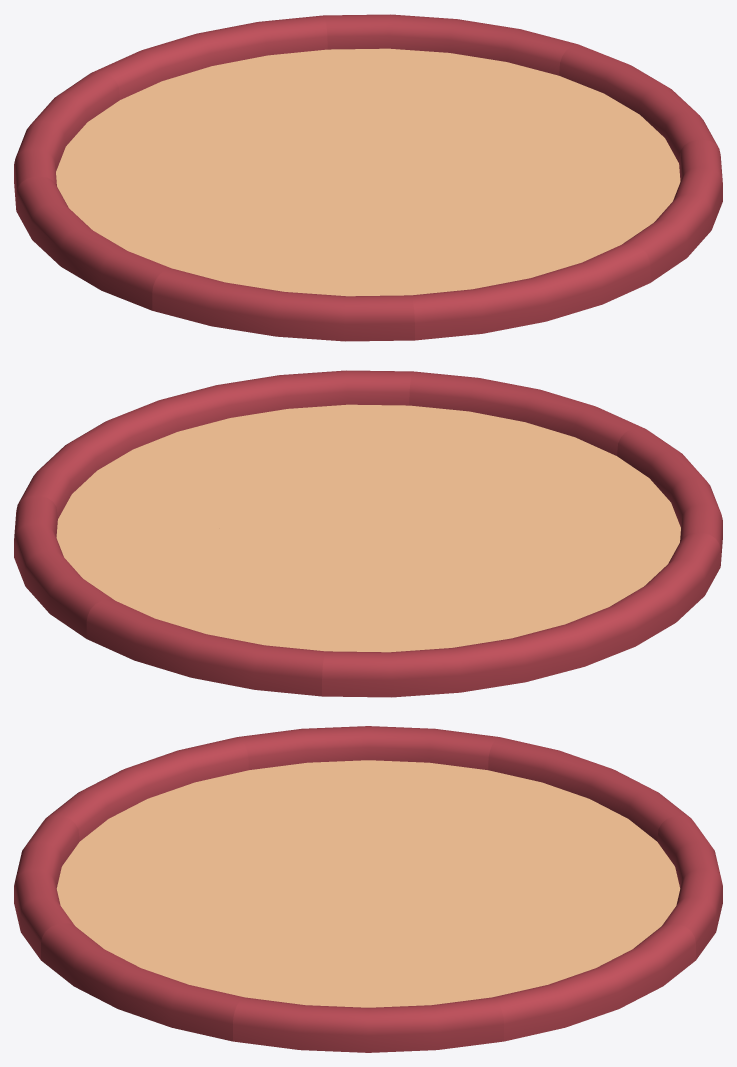
File: Dough Classic D.fbx
The picture shows the model from 3 angles, top to bottom: view 1: azimuth 30°, elevation 25°; view 2: azimuth 150°, elevation 25°; view 3: azimuth 270°, elevation 25°; orthographic projection.
Visible parts, largest first — view 1: Dough.127, Dough.123, Dough.126, Dough.122, Dough.128, Dough.124, Dough.125, Dough.129; view 2: Dough.129, Dough.125, Dough.122, Dough.126, Dough.128, Dough.124, Dough.123, Dough.127; view 3: Dough.128, Dough.124, Dough.123, Dough.125, Dough.127, Dough.129, Dough.122, Dough.126.
Part boxes in pixels (box(x1,y1,x2,y2)): Dough.127: box(152, 181, 414, 341); Dough.123: box(323, 14, 577, 180); Dough.126: box(368, 181, 650, 340); Dough.122: box(96, 15, 368, 180); Dough.128: box(16, 176, 367, 310); Dough.124: box(369, 44, 718, 180); Dough.125: box(369, 140, 722, 282); Dough.129: box(14, 71, 367, 209); Dough.129: box(322, 537, 584, 697); Dough.125: box(159, 370, 413, 536); Dough.122: box(86, 537, 368, 696); Dough.126: box(368, 371, 640, 536); Dough.128: box(369, 532, 720, 666); Dough.124: box(18, 400, 367, 536); Dough.123: box(14, 496, 367, 638); Dough.127: box(369, 427, 722, 565); Dough.128: box(237, 726, 499, 891); Dough.124: box(233, 892, 503, 1052); Dough.123: box(369, 892, 695, 1041); Dough.125: box(41, 892, 367, 1041); Dough.127: box(46, 737, 367, 891); Dough.129: box(369, 737, 690, 891); Dough.122: box(369, 815, 722, 959); Dough.126: box(14, 815, 367, 959).
Size of the model in its own units: 2 by 0.1032 by 2.
